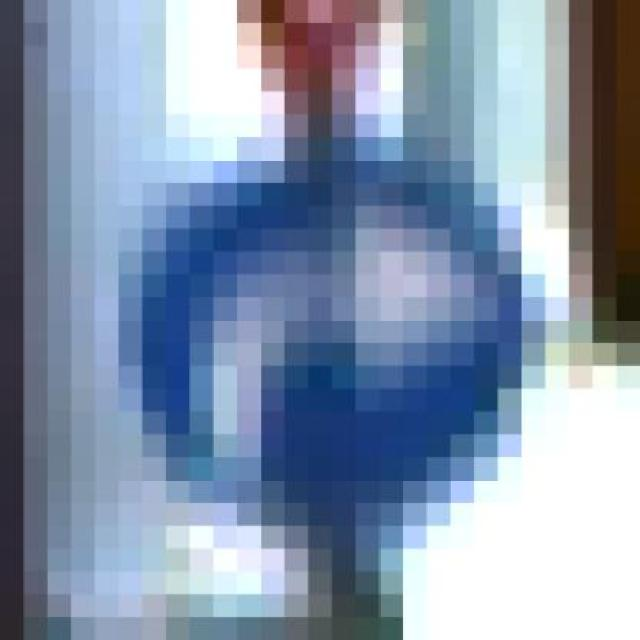Turn right ahead: (123, 106, 551, 563)
